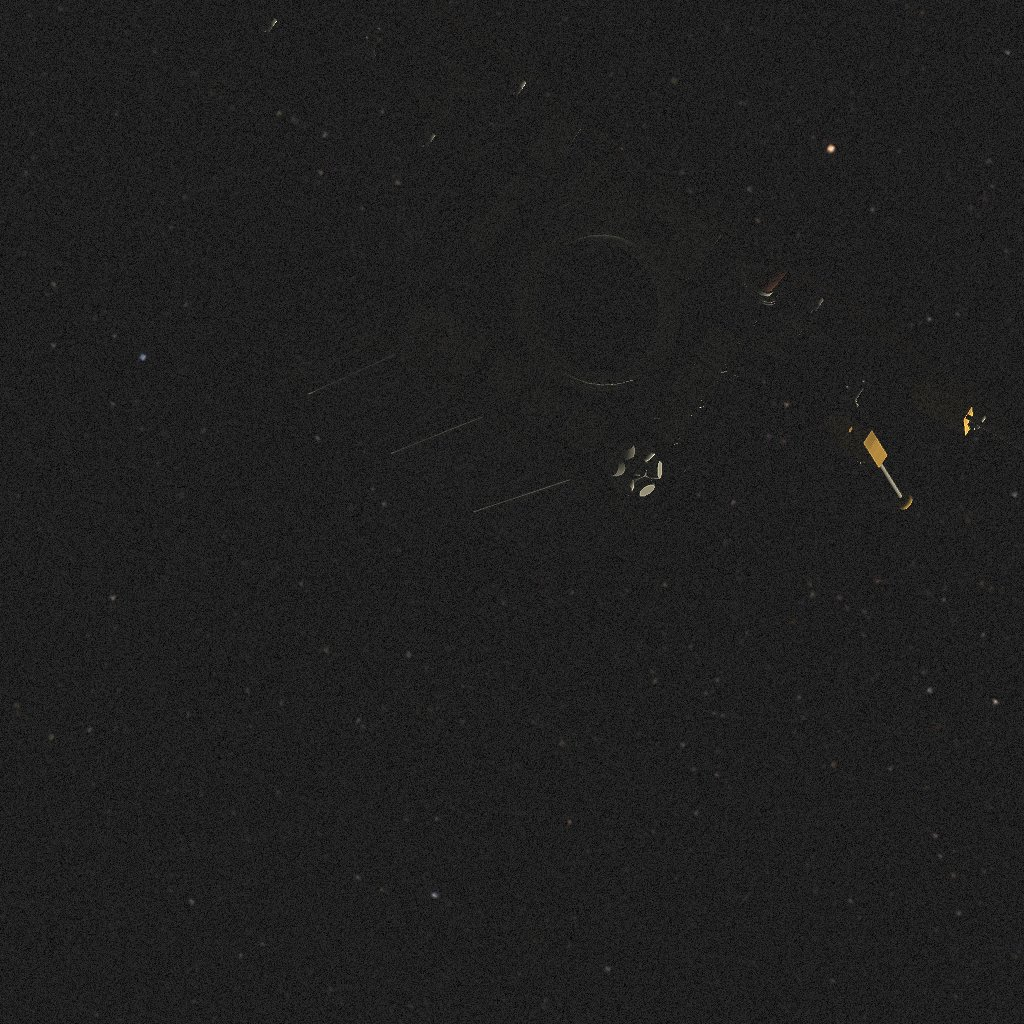proba_2: (254, 0, 1024, 571)
